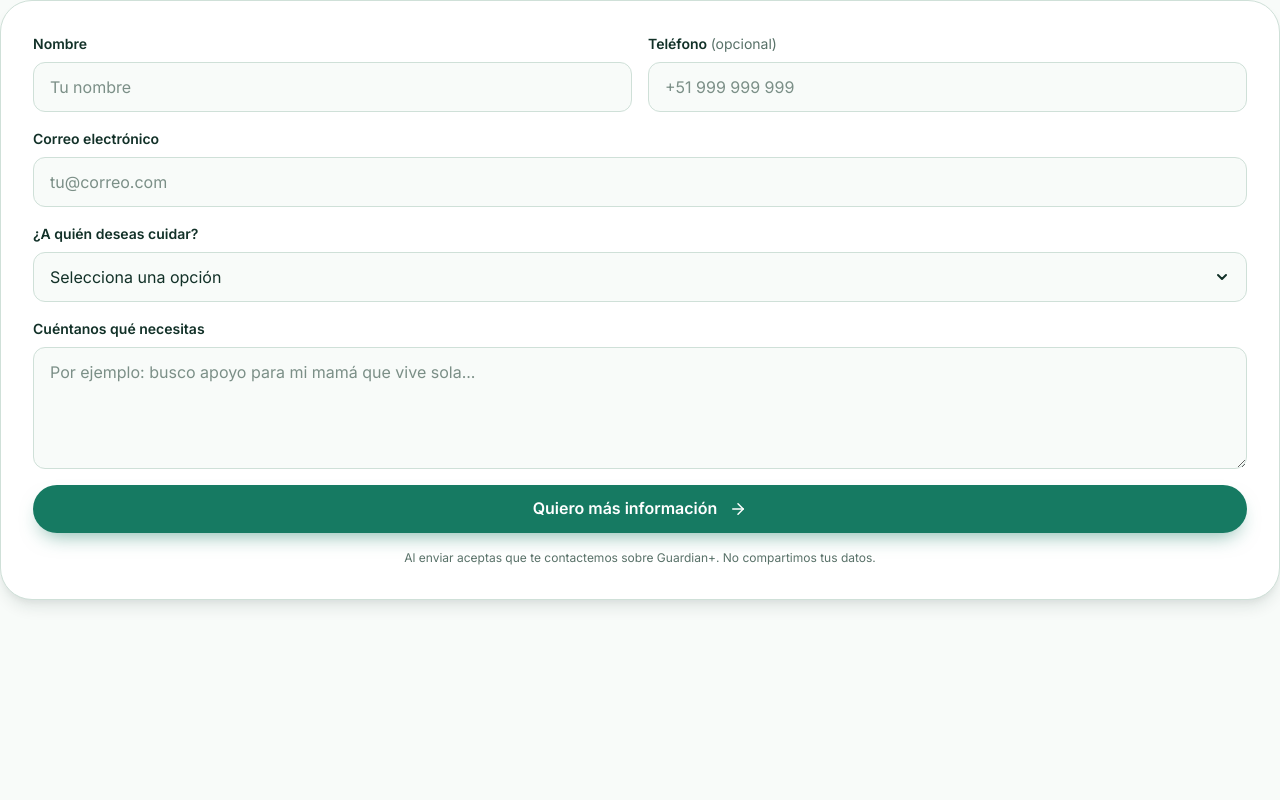
Test: ContactForm › keeps the data and shows an error when the request fails
Type "Lucía" into the field labelled "Nombre" at coordinates (332, 87), box [33,62,632,112]
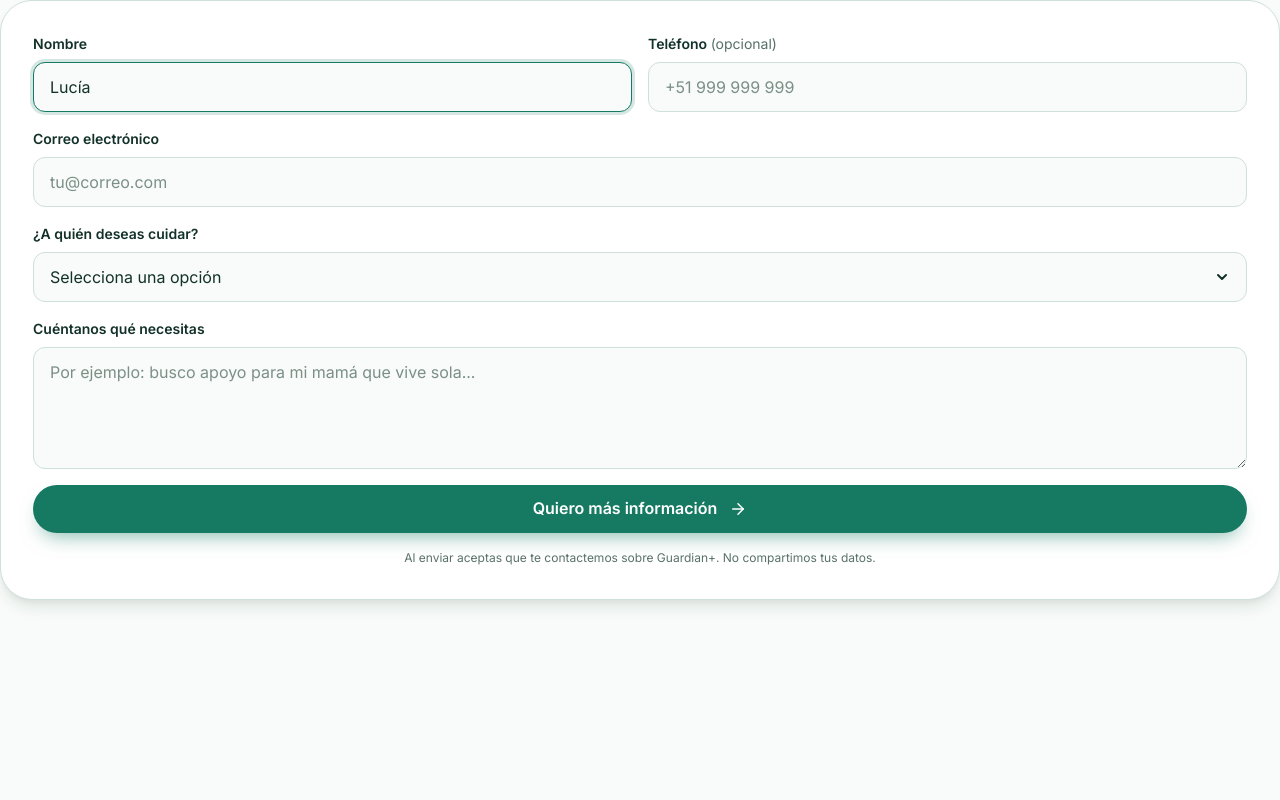
Type "lucia@correo.com" into the field labelled "Correo electrónico" at coordinates (640, 182), box [33,157,1247,207]
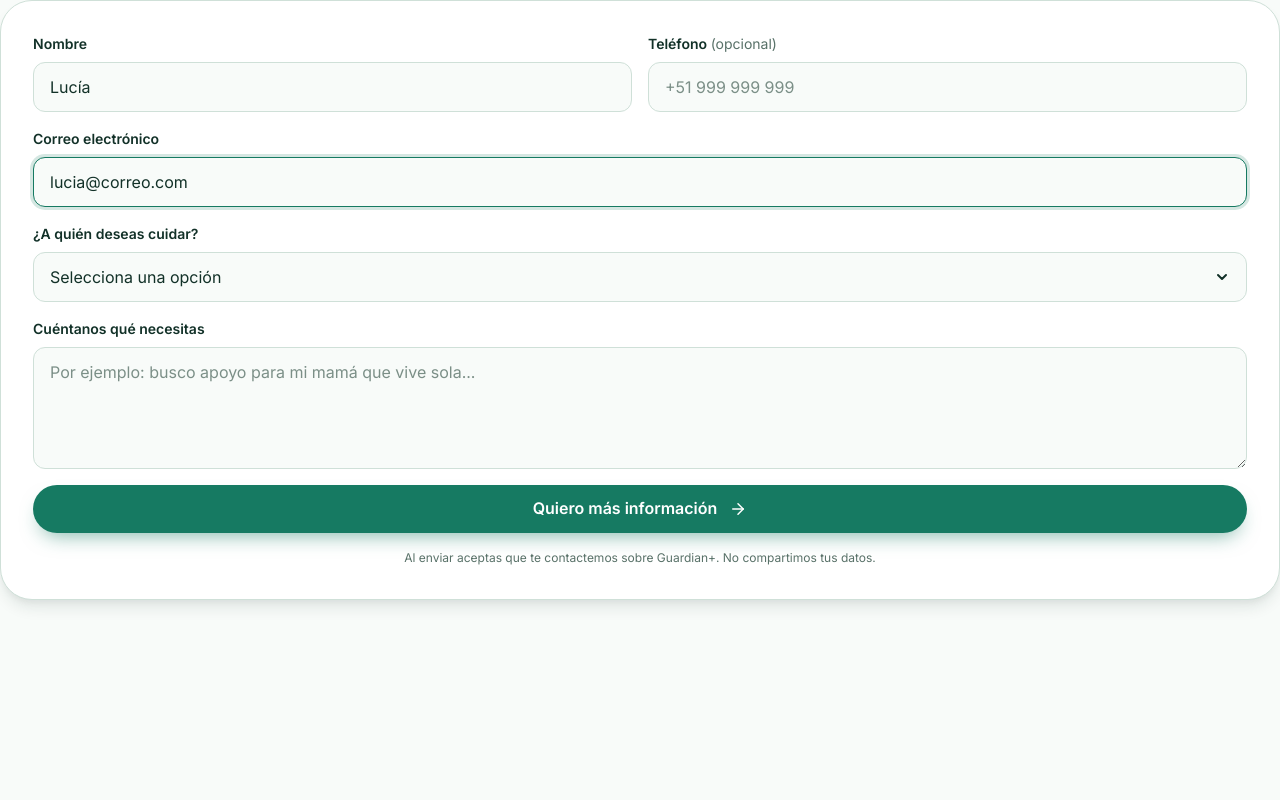
Type "Busco apoyo para mi papá." into the text box labelled "Cuéntanos qué necesitas" at coordinates (640, 408), box [33,347,1247,469]
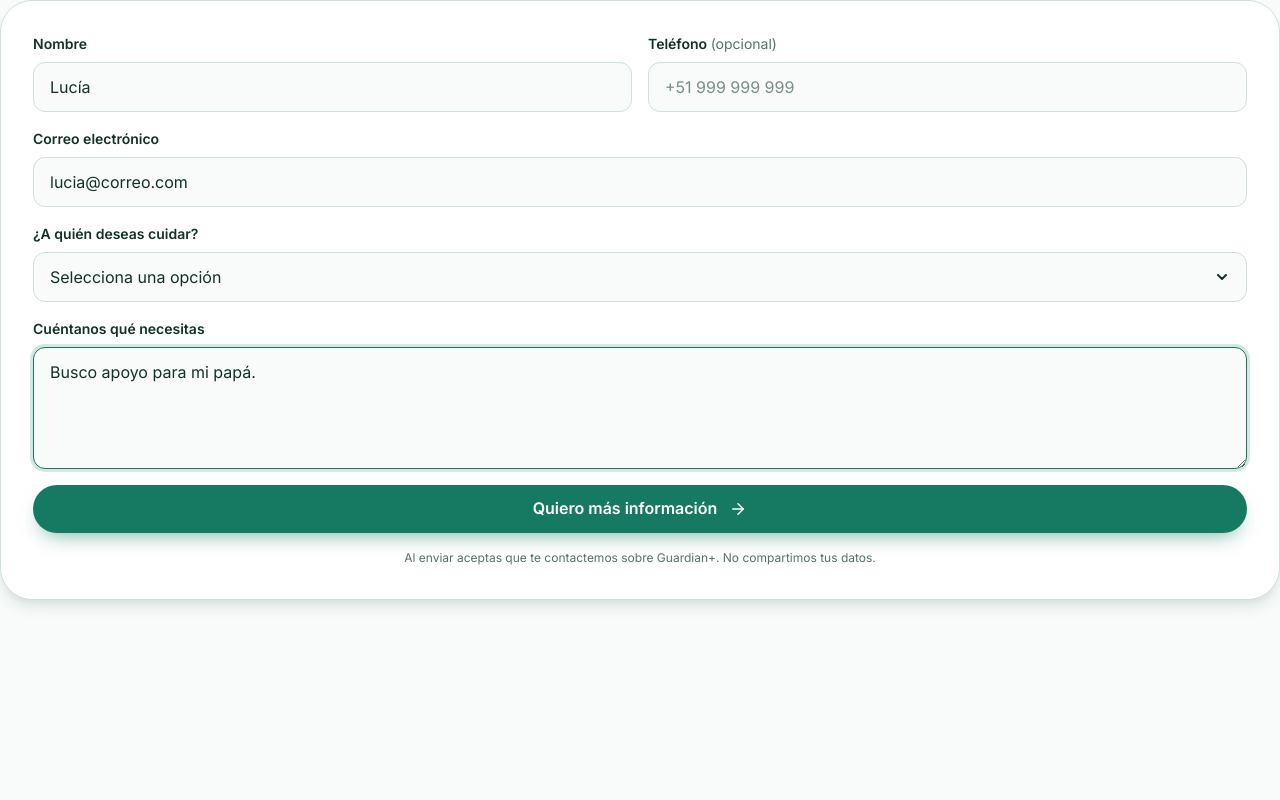
Click the button "Quiero más información" at coordinates (640, 509), box [33,485,1247,533]
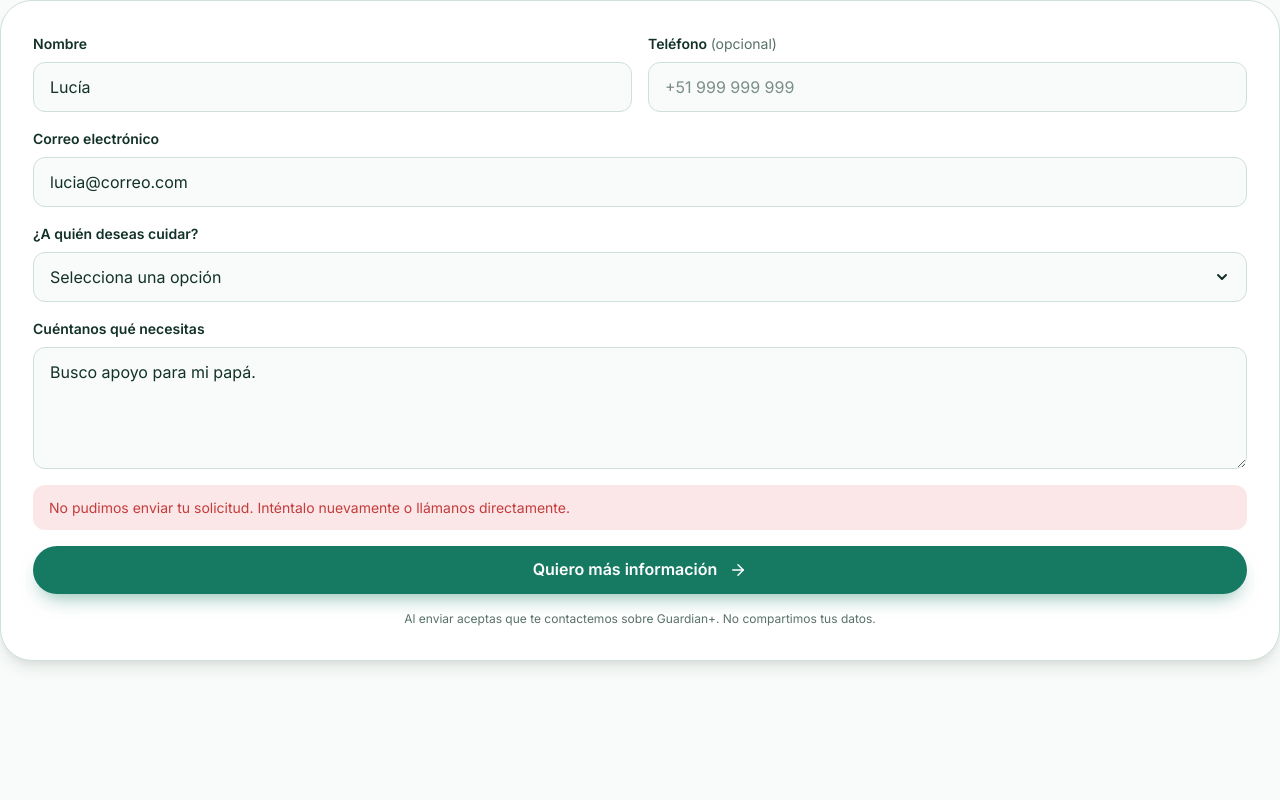
Expected: the message shows "No pudimos enviar tu solicitud", [49,499,570,516]
